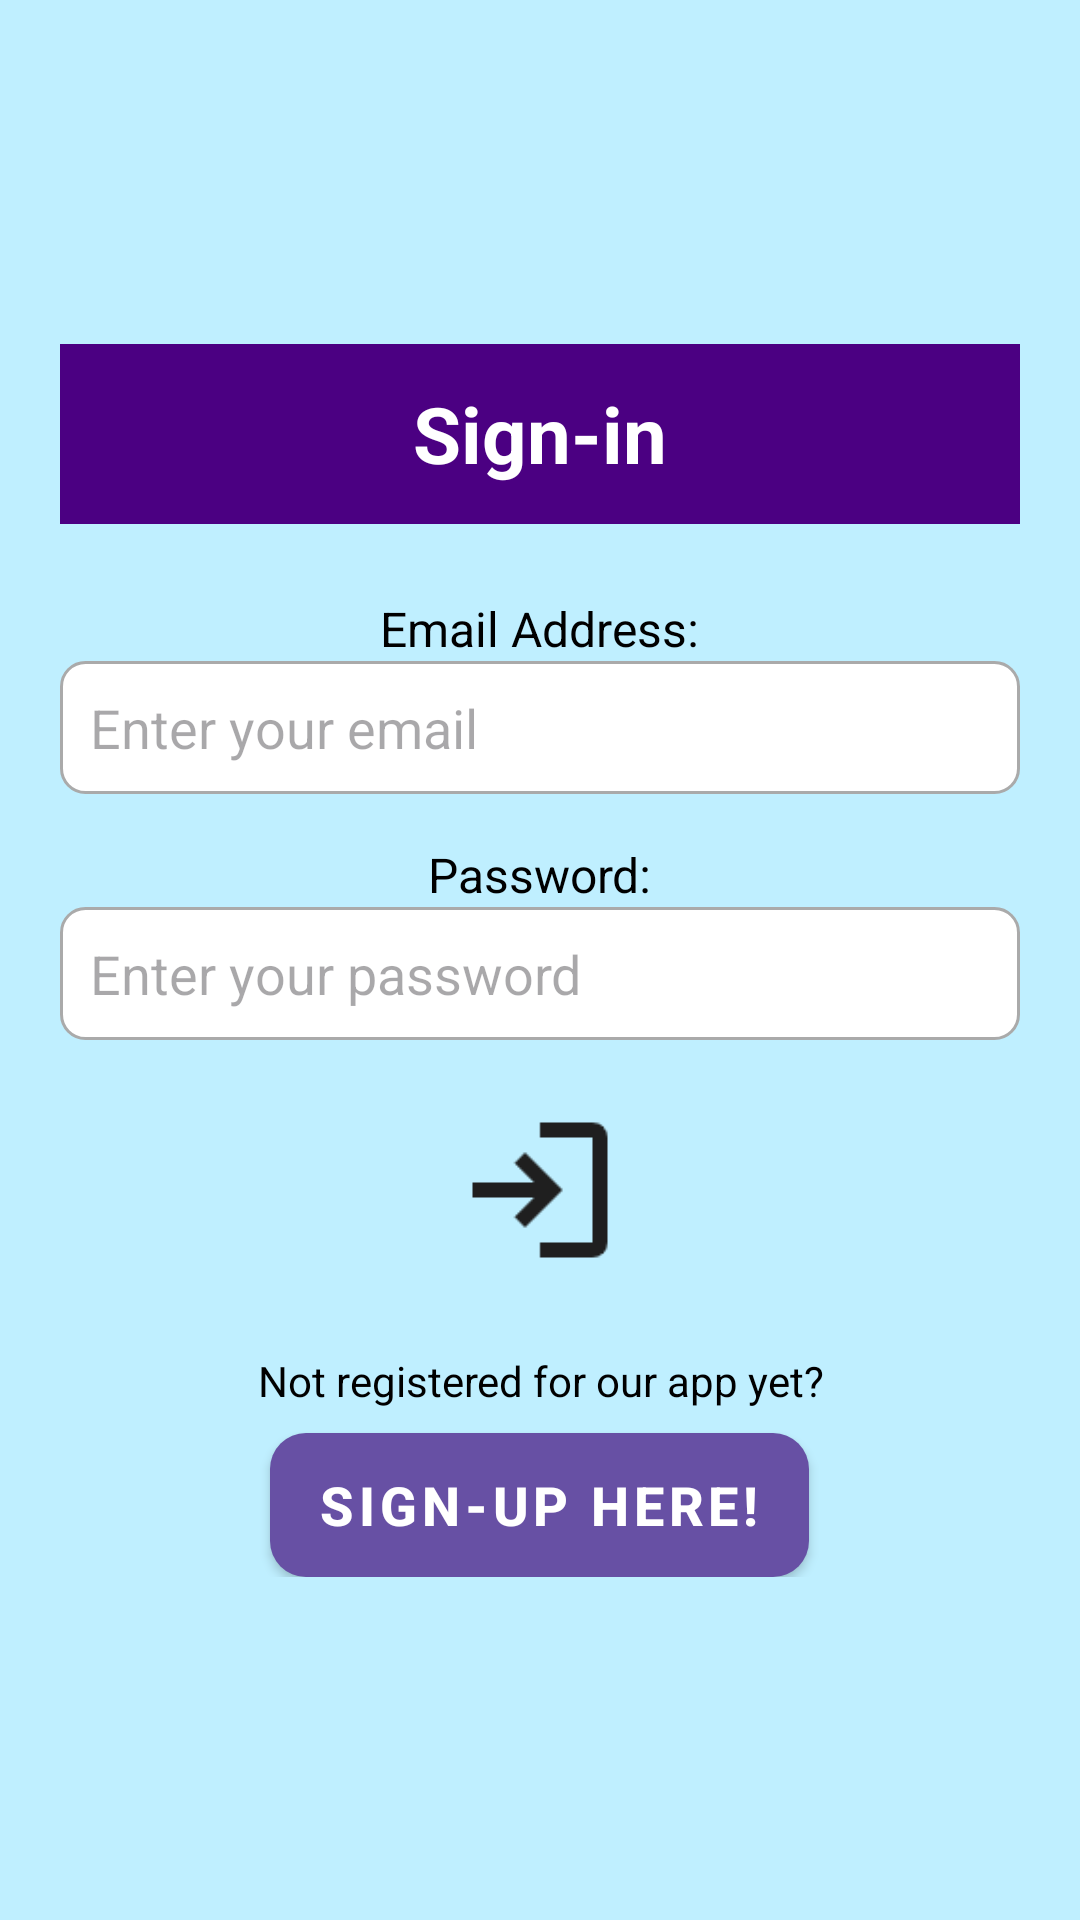

Icon bounding boxes for this 1080×1920 phone screenshot, format (x1, y1, x2, y2):
Login: (472, 1122, 608, 1258)
